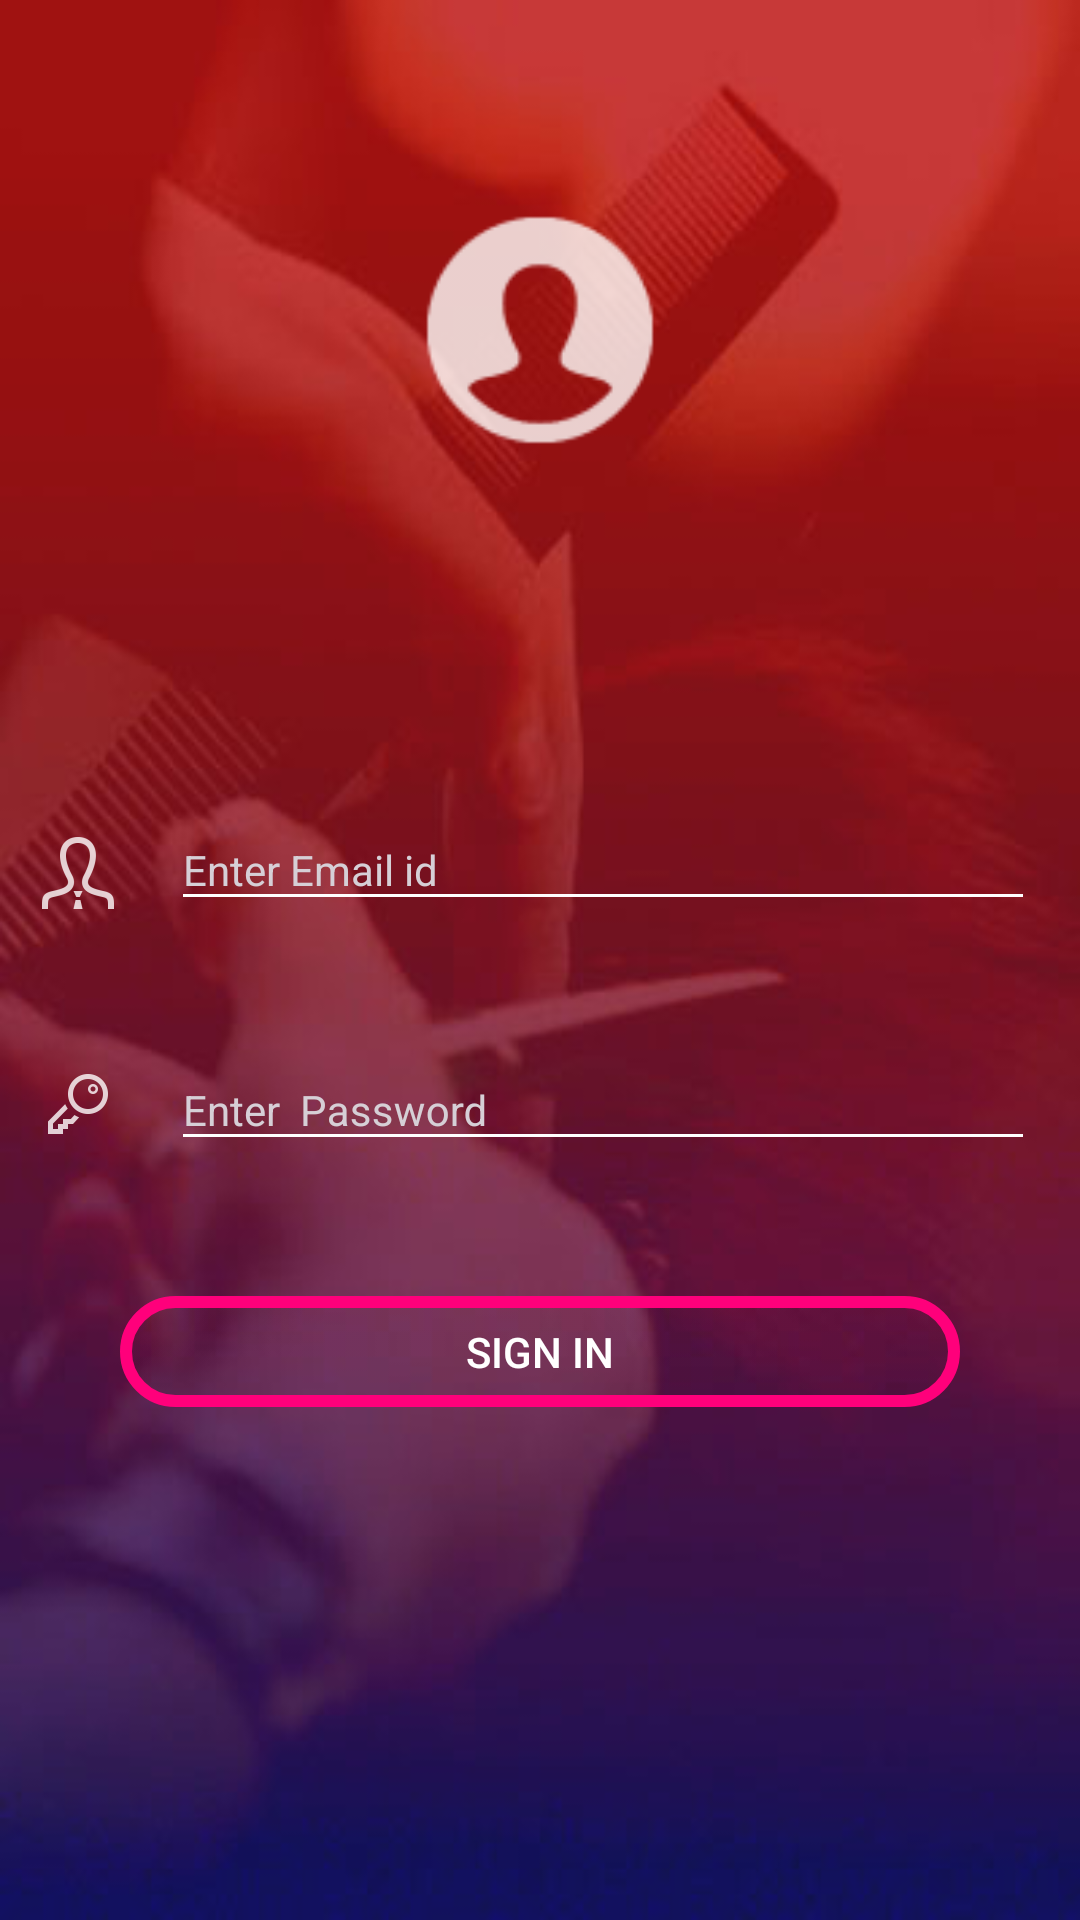

Icon bounding boxes for this 1080*1920 phone screenshot, format rect(x1, y1, x2, y2):
user: rect(30, 825, 114, 921)
userimage: rect(390, 180, 690, 480)
